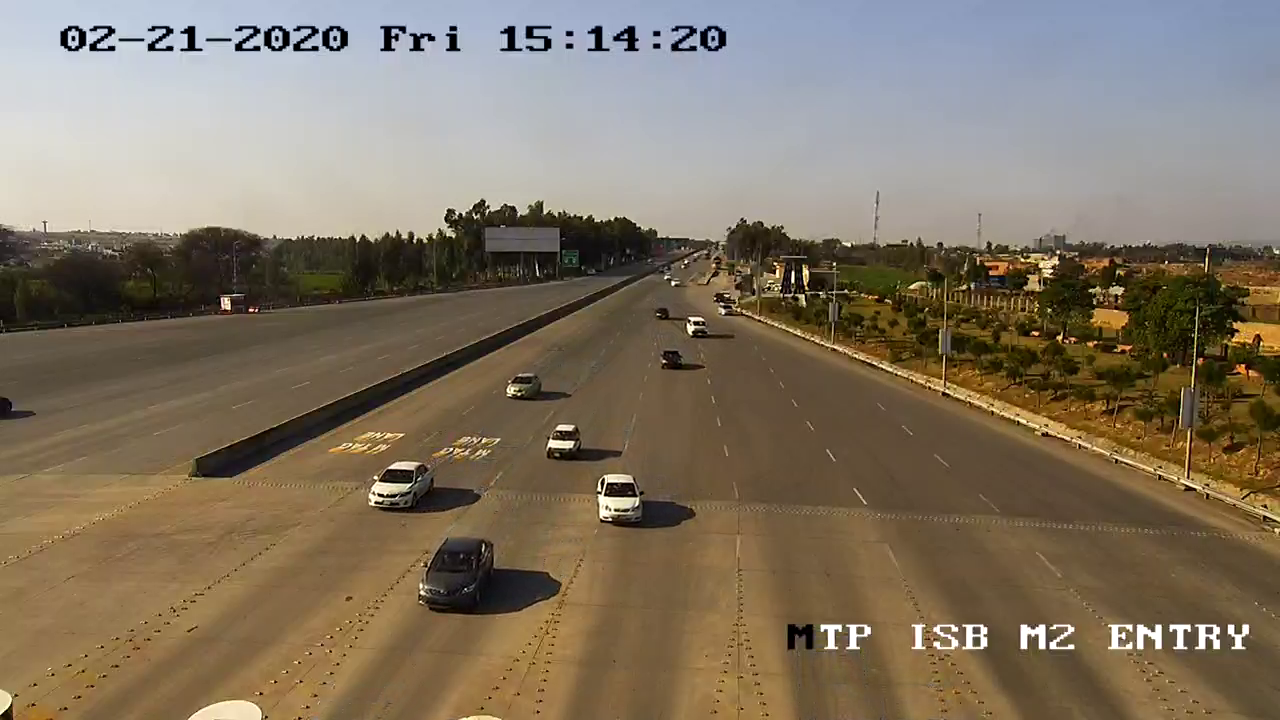f1: (410, 527, 503, 619), (359, 449, 440, 520), (586, 467, 655, 531), (536, 415, 588, 467)
